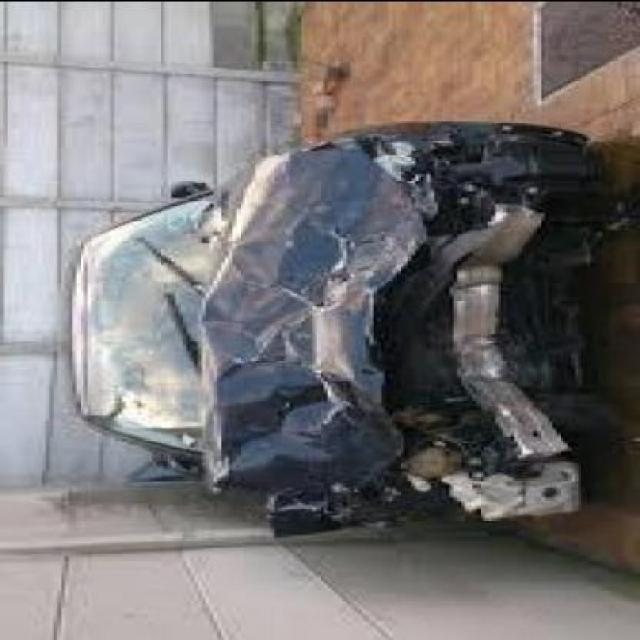damage: (134, 116, 621, 537)
